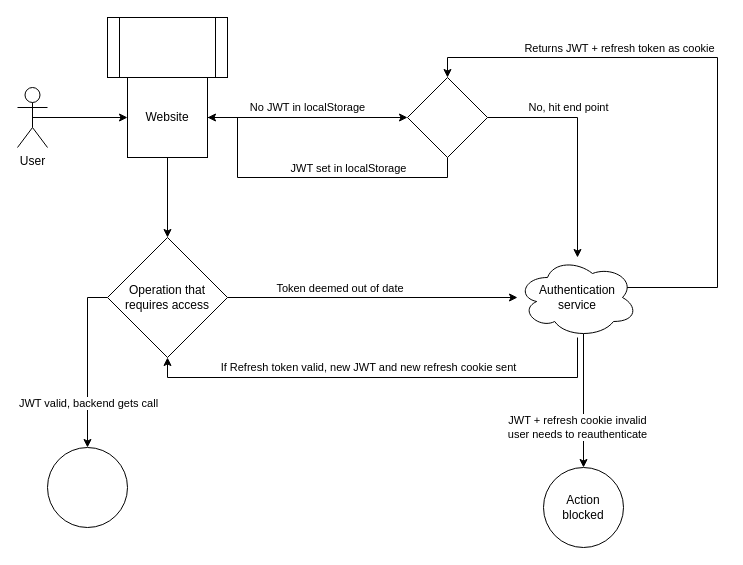
Image size: 743x565. Some labels were removed from this diagram. Each missing label, with the centre of its shape:
Action performed: point 87,487
jwt-login element: point 167,47
Login test: point 447,117
